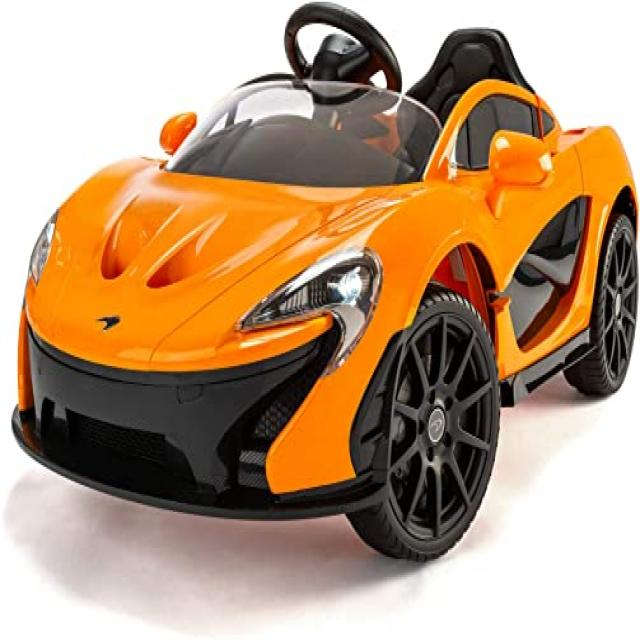Car: (9, 0, 639, 562)
